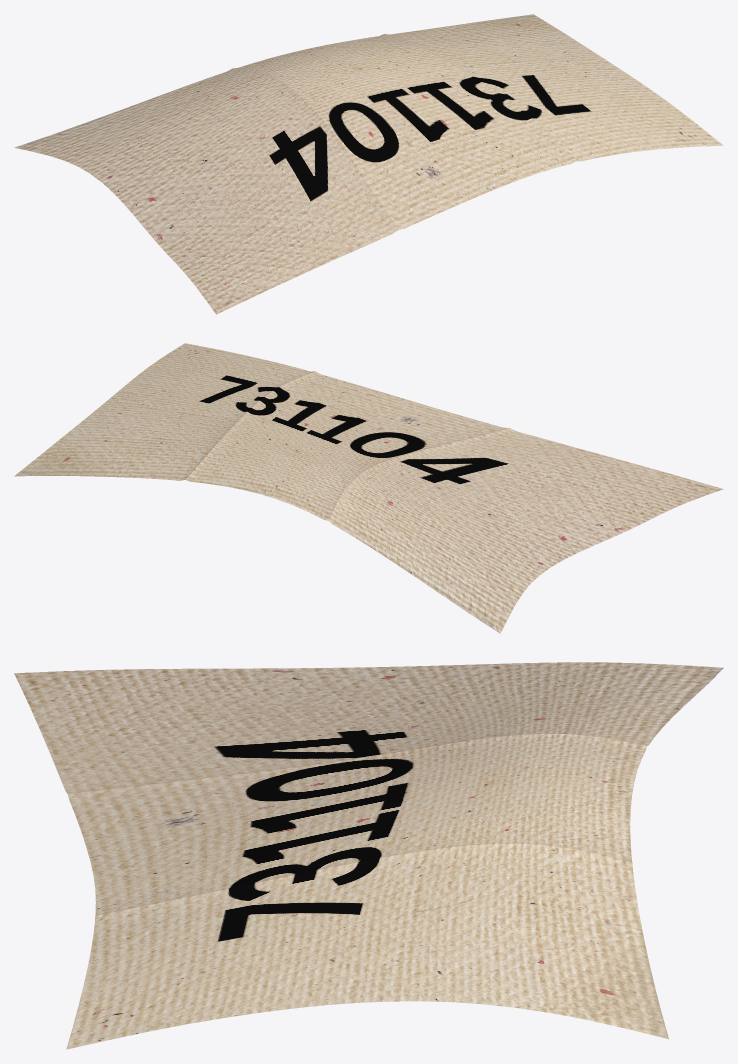
Rendered from pageTwo.glb.
The picture shows the model from 3 angles, top to bottom: view 1: azimuth 30°, elevation 25°; view 2: azimuth 150°, elevation 25°; view 3: azimuth 270°, elevation 25°; orthographic projection. The views are drawn at different scales.
Parts seen in each view (by area): view 1: Object_2; view 2: Object_2; view 3: Object_2.
Boxes of the visible parts, box(x1,y1,x2,y2) form: Object_2: box(14, 14, 723, 314); Object_2: box(14, 343, 723, 633); Object_2: box(14, 662, 723, 1049).
Bounding box in the file's own units: 24.75 × 3.3 × 17.43.
1 material, 1 textured.
